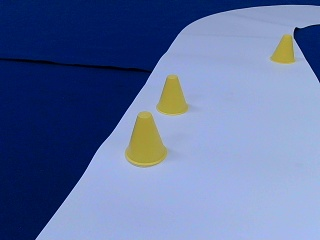cone: (126, 113, 167, 166), (157, 76, 189, 115), (270, 34, 294, 64)
